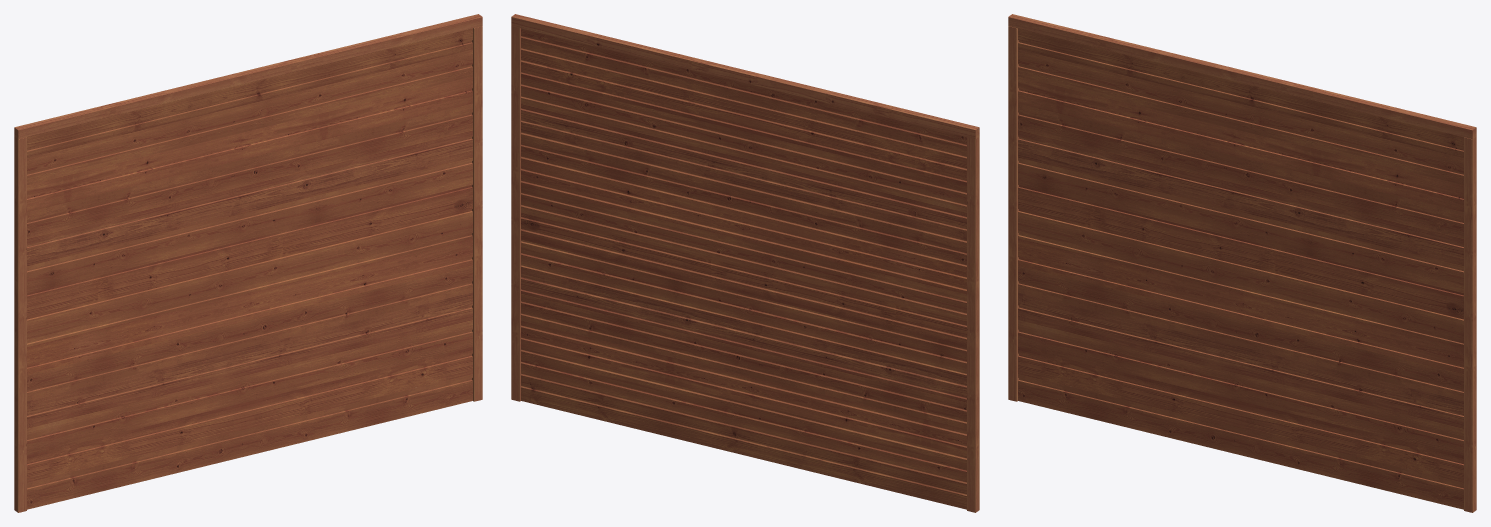
The model's file is 10ftx7.875ft.obj.
3 renders of one model, left to right at view 1: azimuth 30°, elevation 25°; view 2: azimuth 150°, elevation 25°; view 3: azimuth 330°, elevation 25°, orthographic.
Visible parts, largest first — view 1: wall_planks, trim_top, trim_left, trim_right; view 2: wall_planks, trim_top, trim_left, trim_right; view 3: wall_planks, trim_top, trim_right, trim_left.
Boxes of the visible parts, x1,y1,x2,y2 form: wall_planks: (27, 28, 472, 509); trim_top: (14, 14, 482, 139); trim_left: (14, 137, 26, 512); trim_right: (472, 26, 482, 401); wall_planks: (521, 28, 966, 509); trim_top: (511, 14, 979, 139); trim_left: (967, 136, 979, 512); trim_right: (511, 26, 521, 401); wall_planks: (1018, 28, 1463, 509); trim_top: (1008, 14, 1476, 139); trim_right: (1464, 137, 1476, 512); trim_left: (1008, 26, 1018, 401).
Bounding box in the file's own units: 120 × 94.5 × 1.82.
